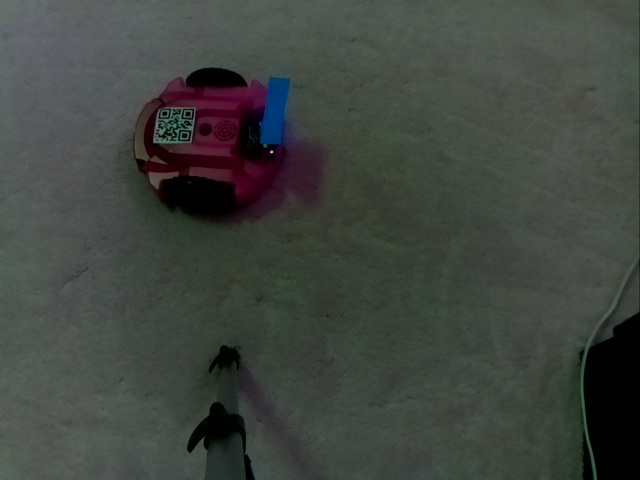chassis: (132, 63, 294, 218)
qr: (150, 106, 196, 144)
